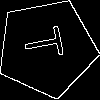T: (22, 23, 74, 62)
